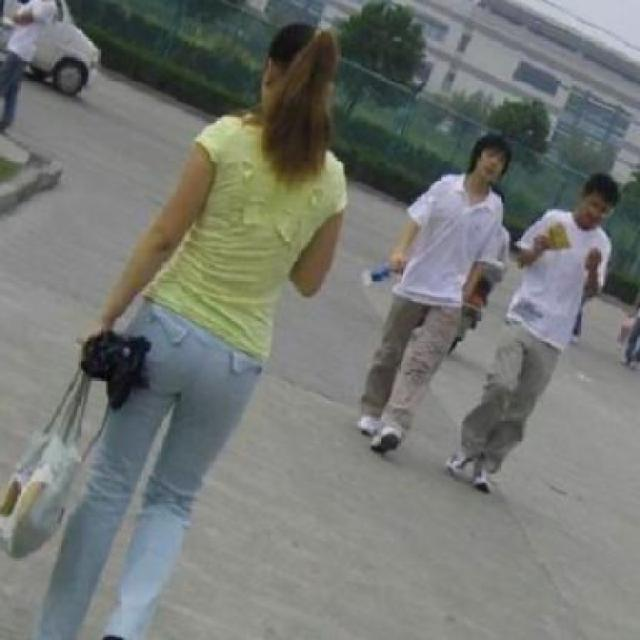obstacle: (20, 12, 357, 638), (448, 165, 628, 497), (356, 116, 512, 487)
